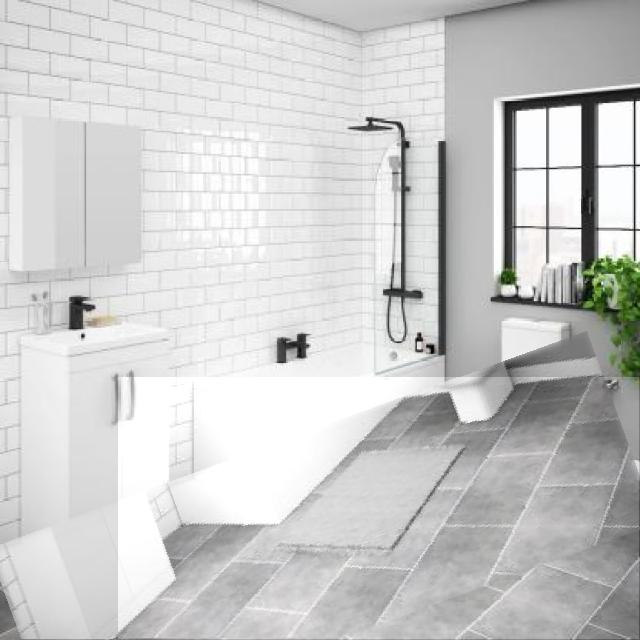floor: (119, 377, 640, 639)
